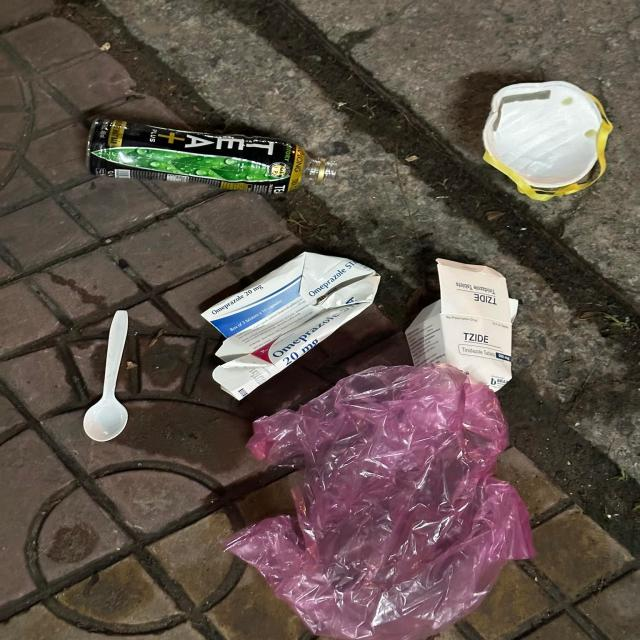bag: (222, 361, 538, 640)
bottle: (85, 117, 341, 197)
cardboard box: (198, 250, 382, 402), (405, 258, 520, 393)
mask: (483, 80, 613, 201)
plastic utensil: (82, 309, 130, 443)
